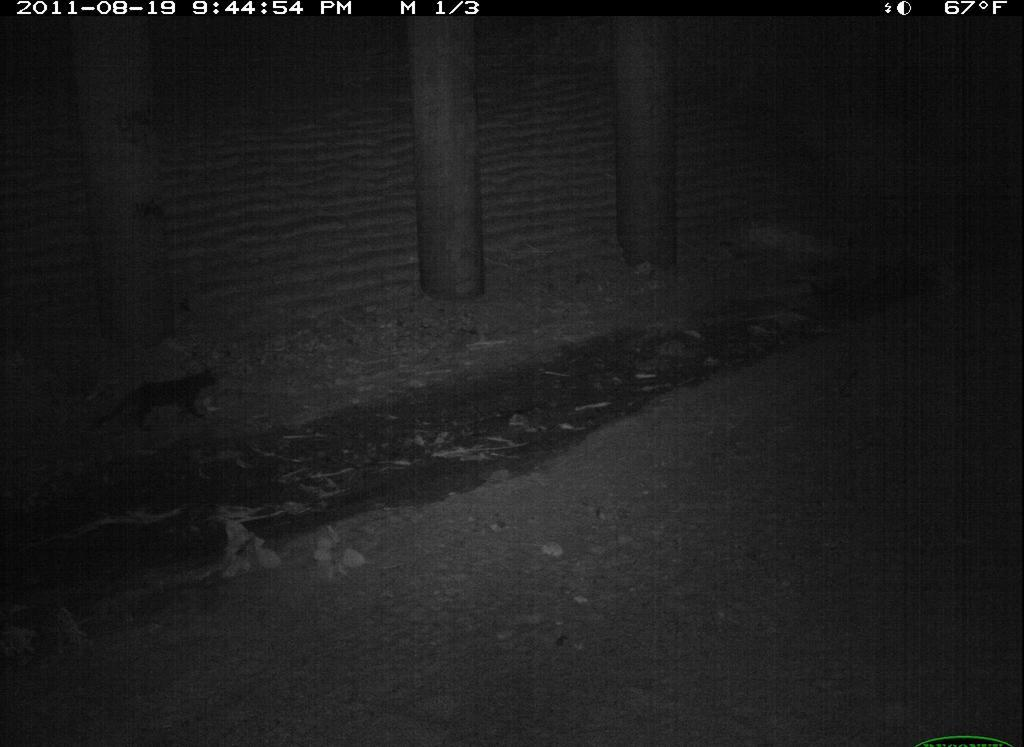cat: (190, 725, 451, 747)
